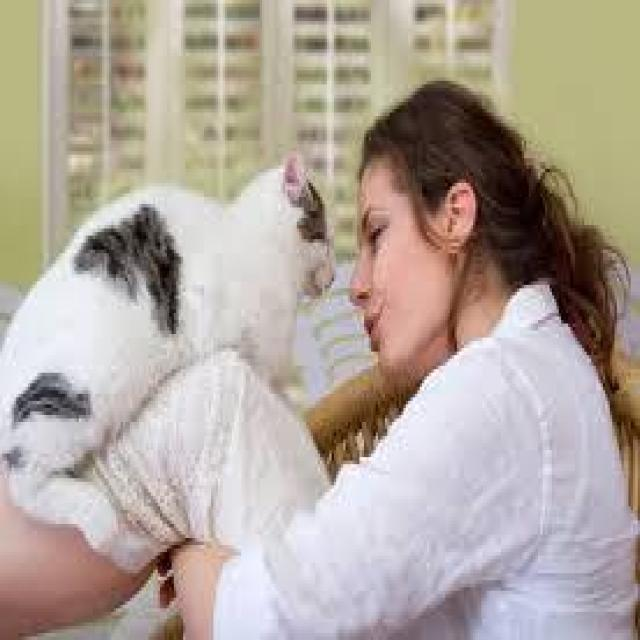Cat: (246, 147, 340, 307)
